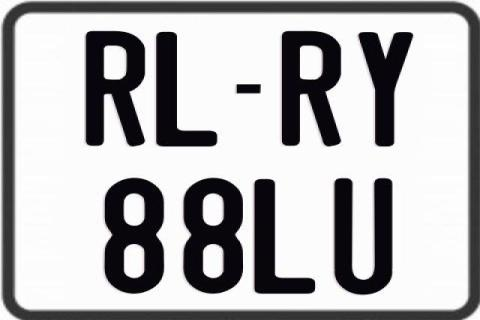0: (102, 177, 167, 295), (180, 177, 241, 295)
L: (154, 30, 221, 144), (252, 179, 314, 293)
R: (84, 31, 146, 148), (279, 29, 342, 144)
U: (334, 177, 395, 297)
Y: (356, 30, 412, 148)
